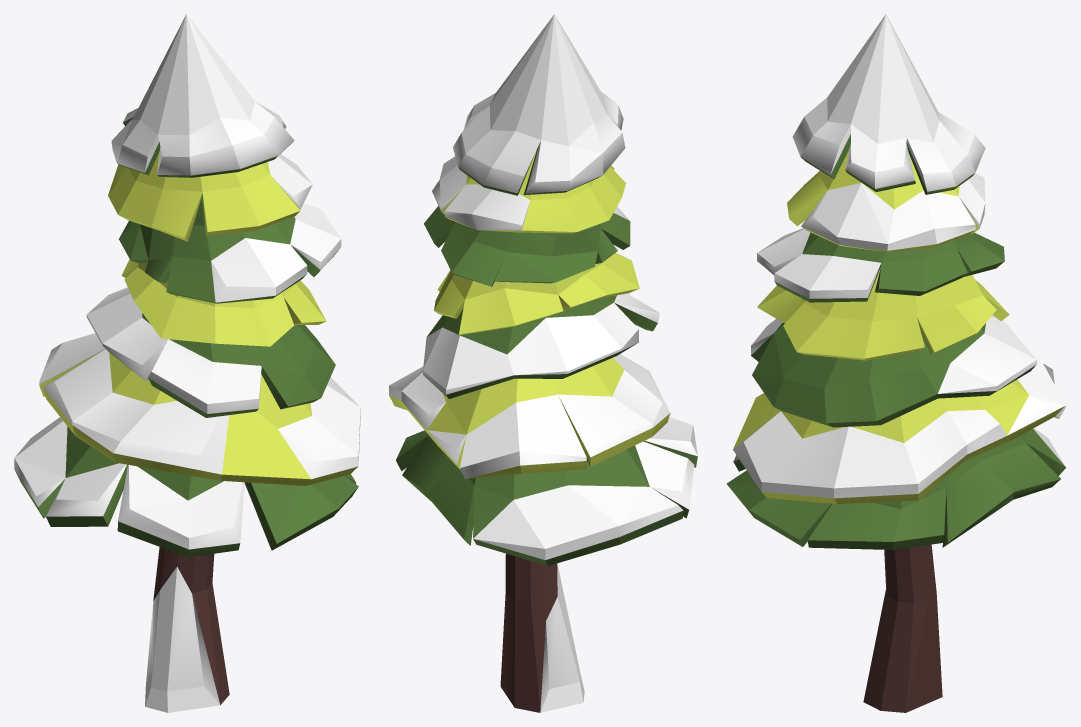
Rendered from Conifer Tree_2 Snow.fbx.
3 views of the same model, side by side, from view 1: azimuth 30°, elevation 25°; view 2: azimuth 150°, elevation 25°; view 3: azimuth 270°, elevation 25° (orthographic).
Visible parts, largest first — view 1: Conifer Tree_2 Snow; view 2: Conifer Tree_2 Snow; view 3: Conifer Tree_2 Snow.
Boxes of the visible parts, x1=… form: Conifer Tree_2 Snow: x1=14, y1=14, x2=360, y2=712; Conifer Tree_2 Snow: x1=389, y1=14, x2=697, y2=712; Conifer Tree_2 Snow: x1=726, y1=14, x2=1066, y2=712.
Size of the model in its own units: 2.5 by 5.64 by 2.57.
